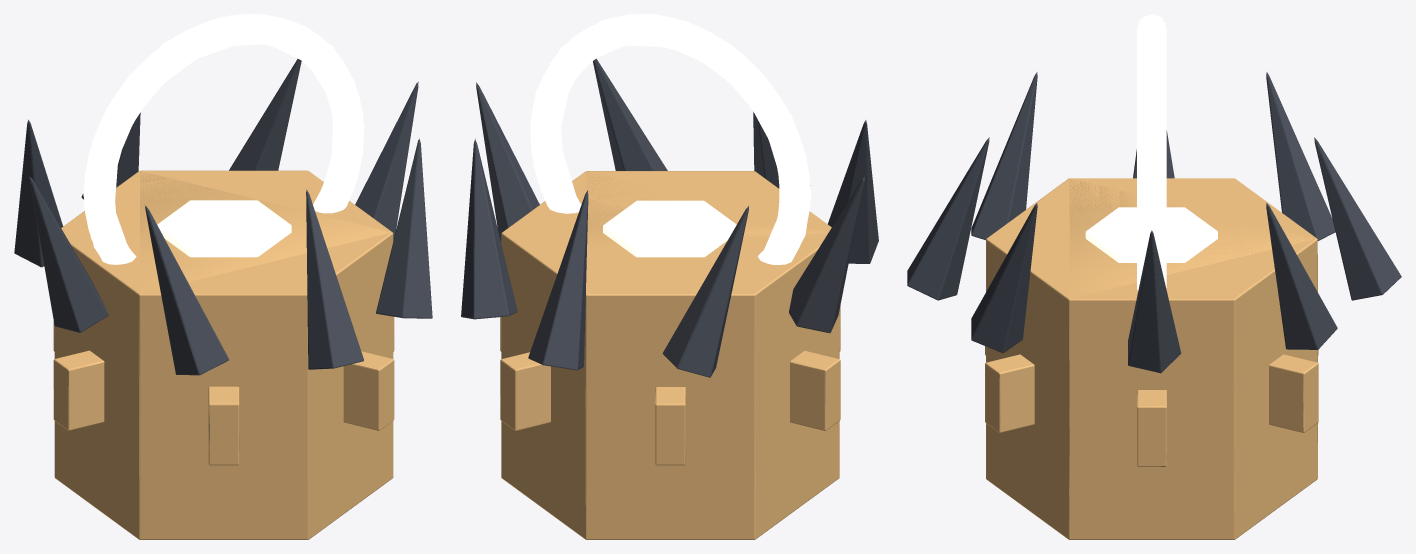
Rendered from SM_Boss_Thermalquelle.fbx.
The picture shows the model from 3 angles, left to right: view 1: azimuth 30°, elevation 25°; view 2: azimuth 150°, elevation 25°; view 3: azimuth 270°, elevation 25°; orthographic projection. The views are drawn at different scales.
Parts seen in each view (by area): view 1: LOD0_SM_Boss_Thermalquelle, LOD1_SM_Boss_Thermalquelle, LOD3_SM_Boss_Thermalquelle, LOD2_SM_Boss_Thermalquelle; view 2: LOD0_SM_Boss_Thermalquelle, LOD1_SM_Boss_Thermalquelle, LOD3_SM_Boss_Thermalquelle, LOD2_SM_Boss_Thermalquelle; view 3: LOD0_SM_Boss_Thermalquelle, LOD1_SM_Boss_Thermalquelle, LOD3_SM_Boss_Thermalquelle, LOD2_SM_Boss_Thermalquelle.
Boxes of the visible parts, <box> form: LOD0_SM_Boss_Thermalquelle: <box>14,14,432,539</box>; LOD1_SM_Boss_Thermalquelle: <box>20,14,432,539</box>; LOD3_SM_Boss_Thermalquelle: <box>28,14,419,263</box>; LOD2_SM_Boss_Thermalquelle: <box>28,15,419,539</box>; LOD0_SM_Boss_Thermalquelle: <box>461,15,878,539</box>; LOD1_SM_Boss_Thermalquelle: <box>461,15,878,539</box>; LOD3_SM_Boss_Thermalquelle: <box>475,14,865,264</box>; LOD2_SM_Boss_Thermalquelle: <box>475,16,866,539</box>; LOD0_SM_Boss_Thermalquelle: <box>907,16,1401,539</box>; LOD1_SM_Boss_Thermalquelle: <box>908,16,1394,539</box>; LOD3_SM_Boss_Thermalquelle: <box>989,14,1314,287</box>; LOD2_SM_Boss_Thermalquelle: <box>957,15,1345,539</box>.
Bounding box in the file's own units: 3.53 × 4.05 × 3.97.
